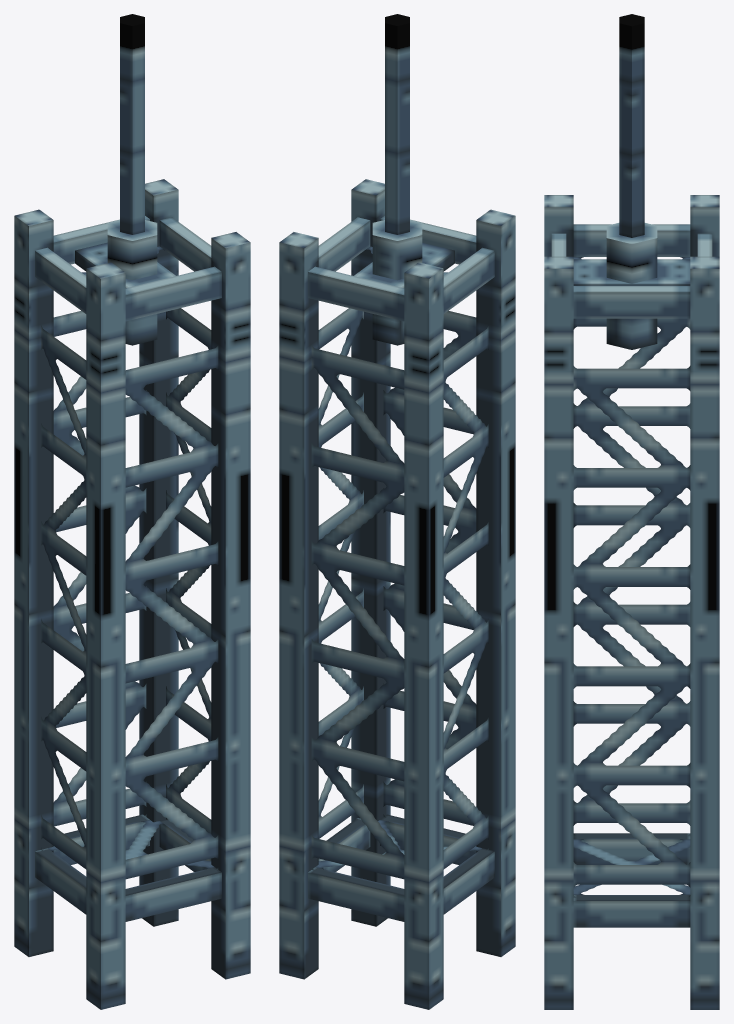
The model's file is AntennaTower.fbx.
The picture shows the model from 3 angles, left to right: view 1: azimuth 30°, elevation 25°; view 2: azimuth 150°, elevation 25°; view 3: azimuth 270°, elevation 25°; orthographic projection.
Visible parts, largest first — view 1: Tower, Crossbeams; view 2: Tower, Crossbeams; view 3: Tower, Crossbeams.
Boxes of the visible parts, x1,y1,x2,y2 form: Tower: [14, 14, 250, 1009]; Crossbeams: [41, 246, 218, 879]; Tower: [279, 14, 515, 1009]; Crossbeams: [311, 246, 488, 879]; Tower: [544, 14, 719, 1009]; Crossbeams: [573, 257, 690, 897].
Bounding box in the file's own units: 6 × 36 × 6.
